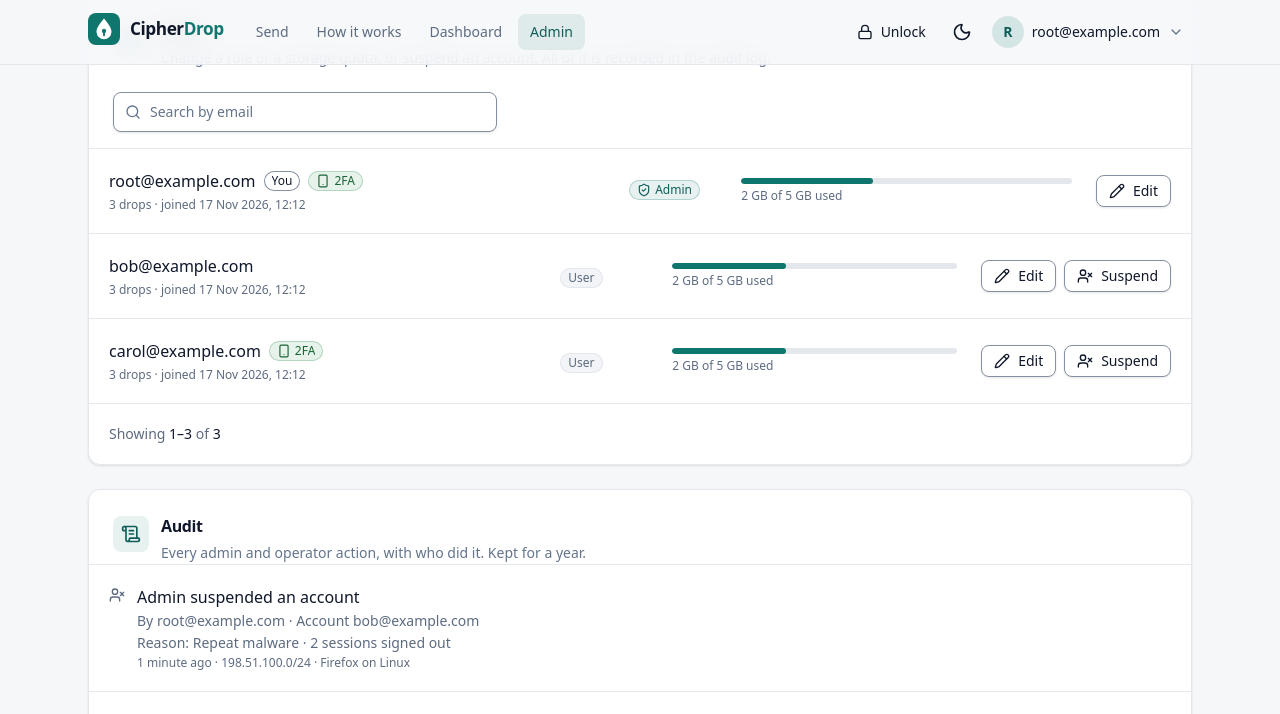
AdminPage users › asks for a step-up when a promotion answers STEP_UP_REQUIRED, keeping the edit open (server-3)
(page scrolled)
Click the button "Edit" in the row of "carol@example.com" at (1019, 360), box x1=981 y1=344 x2=1056 y2=376
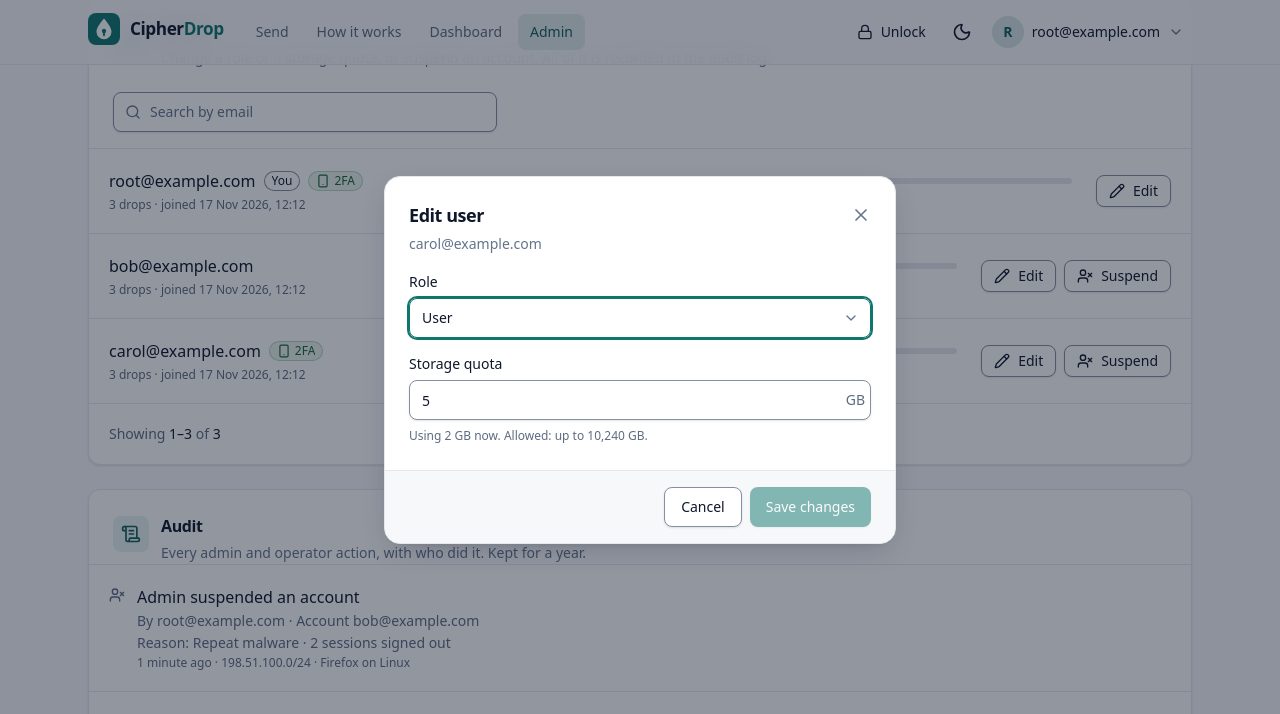
Select "Admin" in the dropdown labelled "Role" at (640, 318), box x1=409 y1=298 x2=871 y2=338
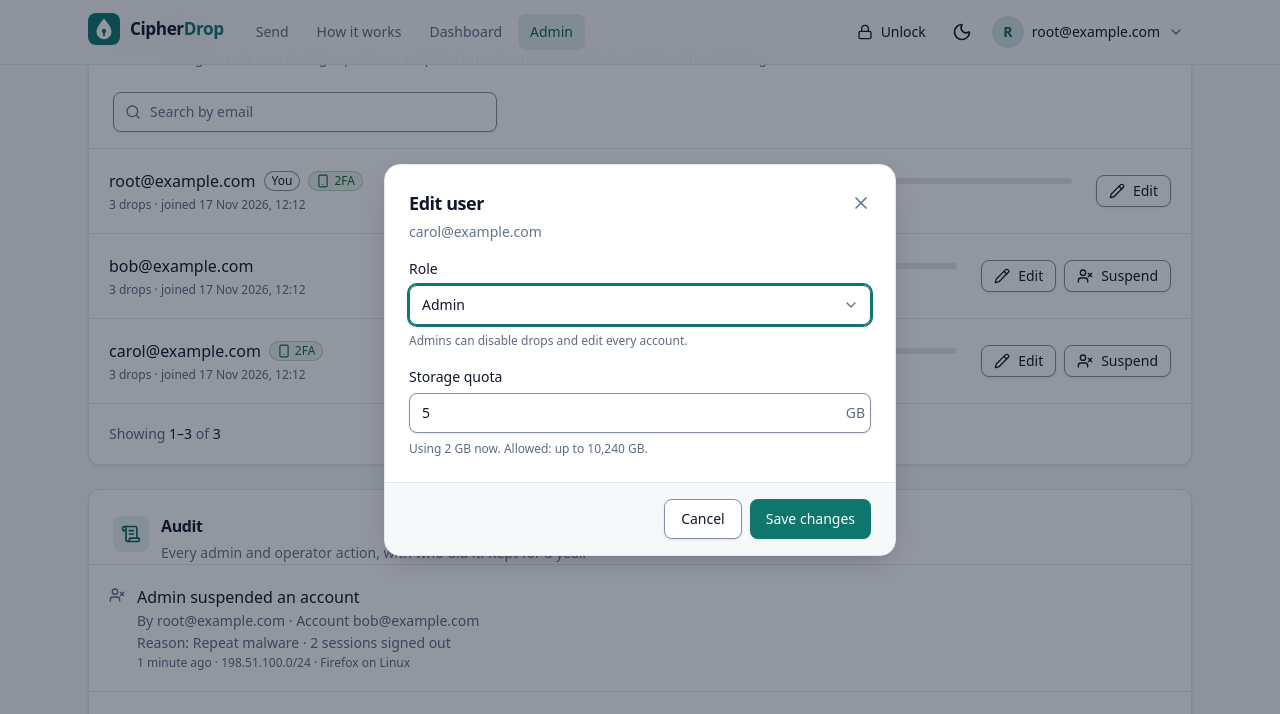
Click the button "Save changes" at (810, 519), box x1=750 y1=499 x2=871 y2=539
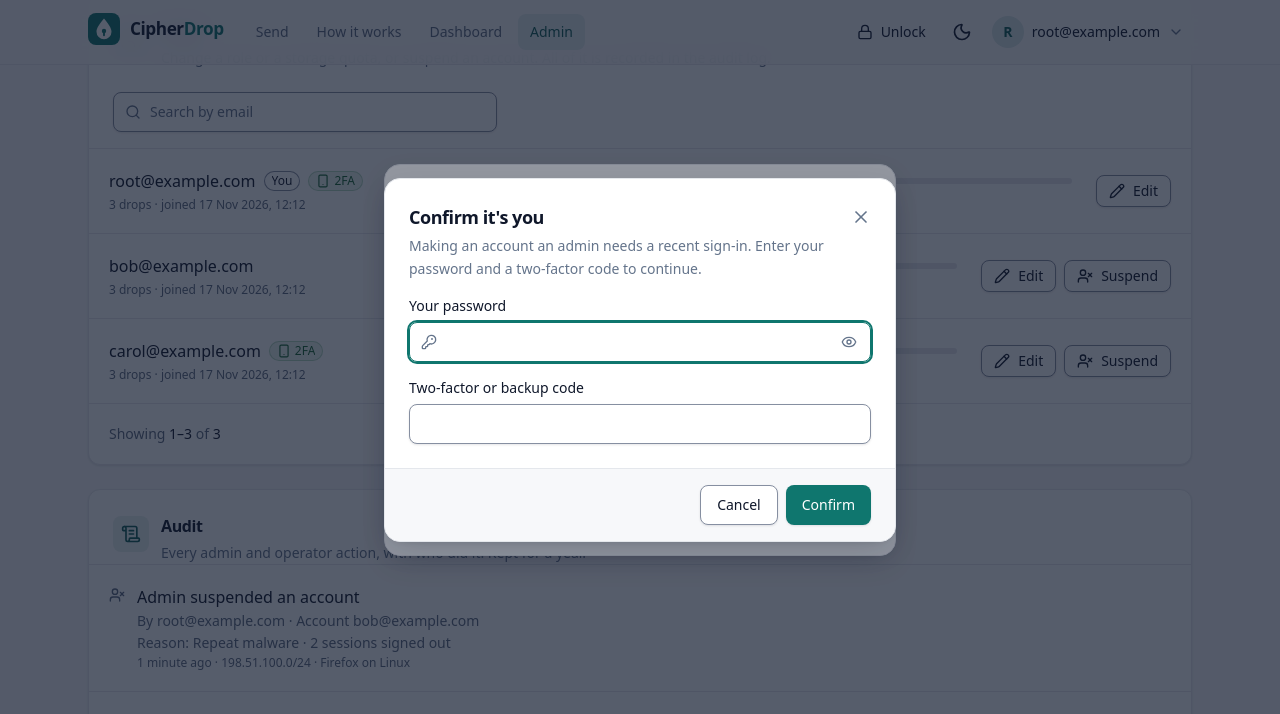
Check: the password field labelled "Your password" is shown, box x1=409 y1=322 x2=871 y2=362
Check: the field labelled "Two-factor or backup code" is shown, box x1=409 y1=404 x2=871 y2=444
Click the button "Cancel" at (739, 505), box x1=700 y1=485 x2=778 y2=525
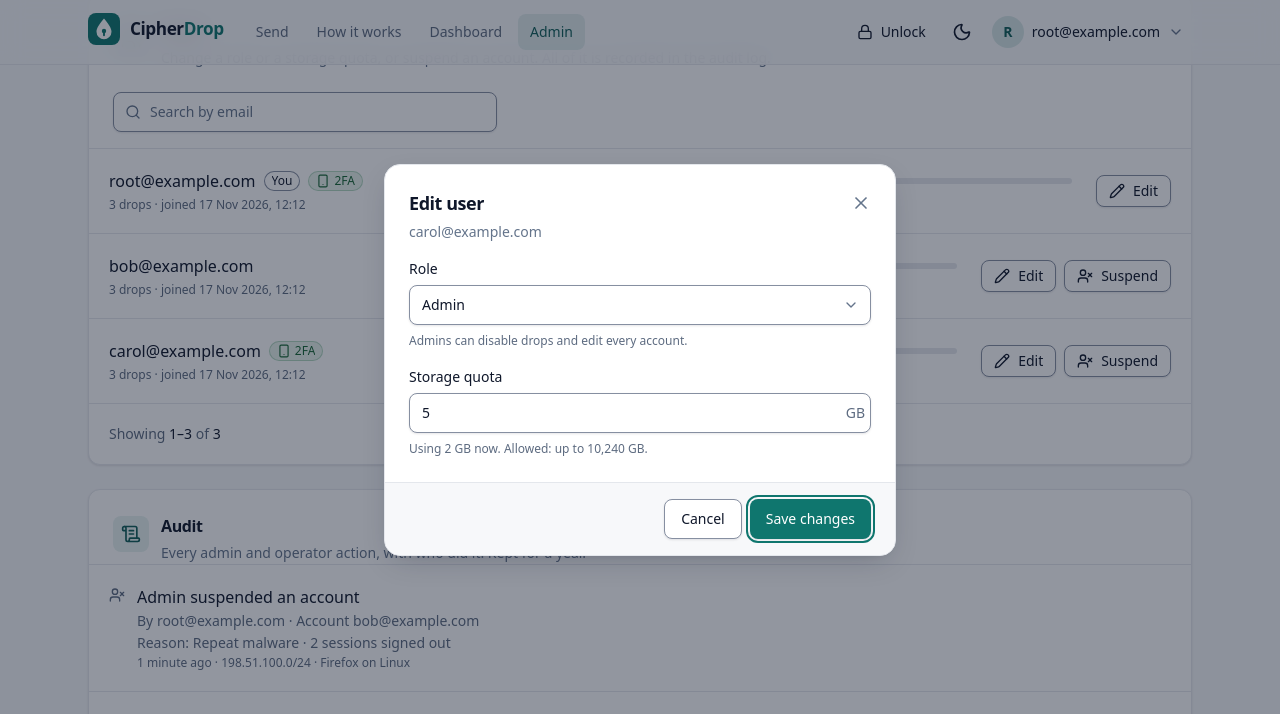
Check: the dialog "Edit user" is shown, box x1=384 y1=164 x2=896 y2=556
Check: the heading "Confirm it's you" is gone
